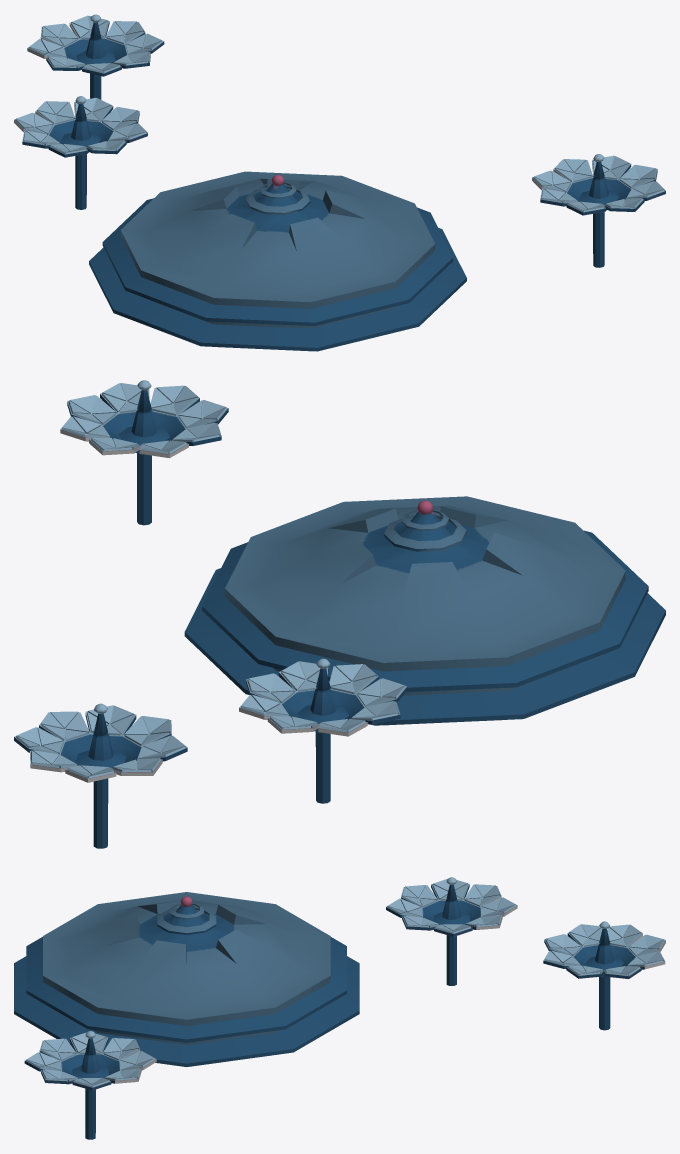
File: Tech_06.fbx
The picture shows the model from 3 angles, top to bottom: view 1: azimuth 30°, elevation 25°; view 2: azimuth 150°, elevation 25°; view 3: azimuth 270°, elevation 25°; orthographic projection. The views are drawn at different scales.
Visible parts, largest first — view 1: Tech_017; view 2: Tech_017; view 3: Tech_017.
Part boxes in pixels (x1,y1,x2,y2): Tech_017: (14,14,665,351); Tech_017: (14,380,665,848); Tech_017: (14,877,665,1139).
Bounding box in the file's own units: 62.87 × 14.51 × 74.99.
